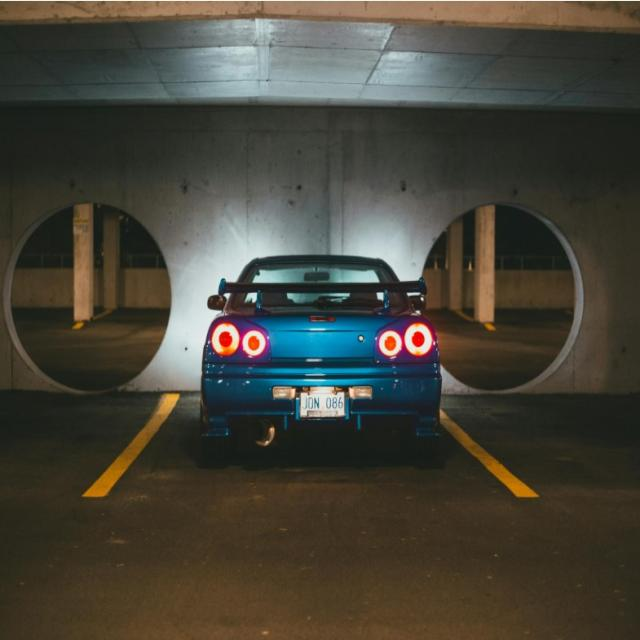car: (197, 254, 443, 455)
